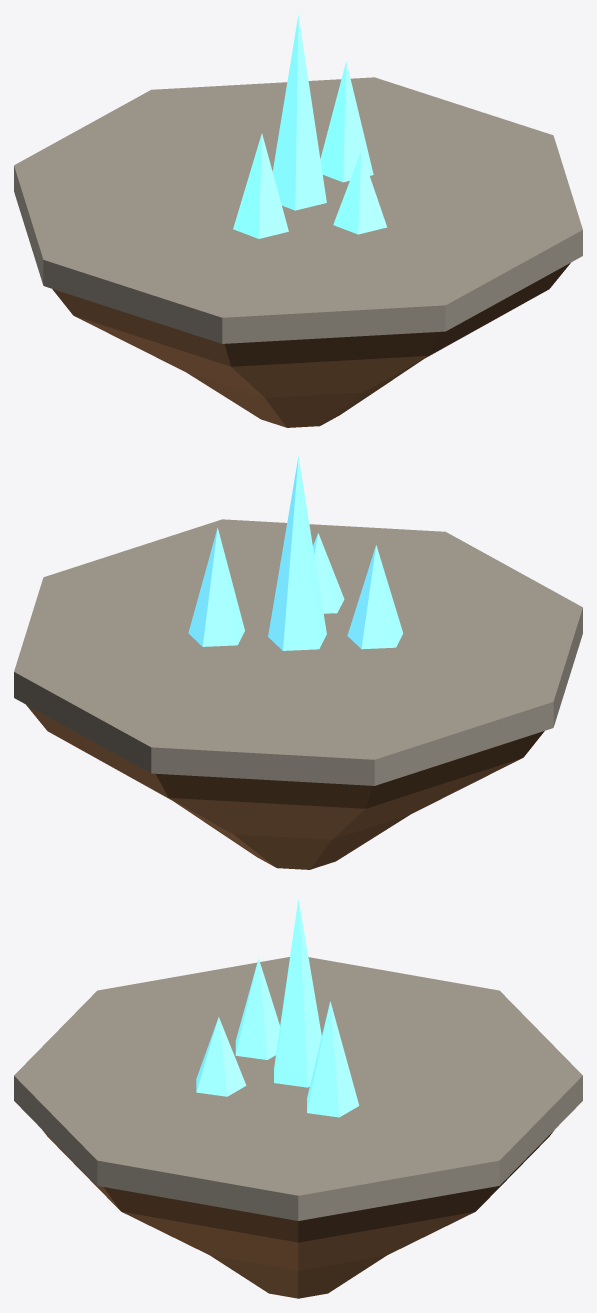
The model's file is sky_island_crystal.glb.
3 renders of one model, top to bottom at view 1: azimuth 30°, elevation 25°; view 2: azimuth 150°, elevation 25°; view 3: azimuth 270°, elevation 25°, orthographic. The views are drawn at different scales.
Visible parts, largest first — view 1: island_crystal; view 2: island_crystal; view 3: island_crystal.
Boxes of the visible parts, x1,y1,x2,y2 form: island_crystal: (14,14,582,427); island_crystal: (14,456,582,869); island_crystal: (14,898,582,1298).
Bounding box in the file's own units: 7.14 × 5.3 × 7.14.
